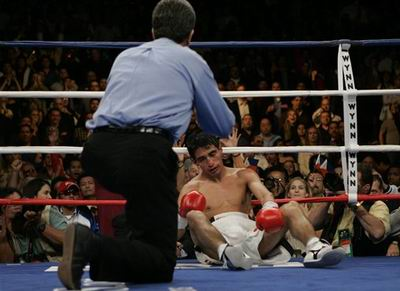10+: (2, 1, 400, 286)
down: (177, 133, 346, 270)
